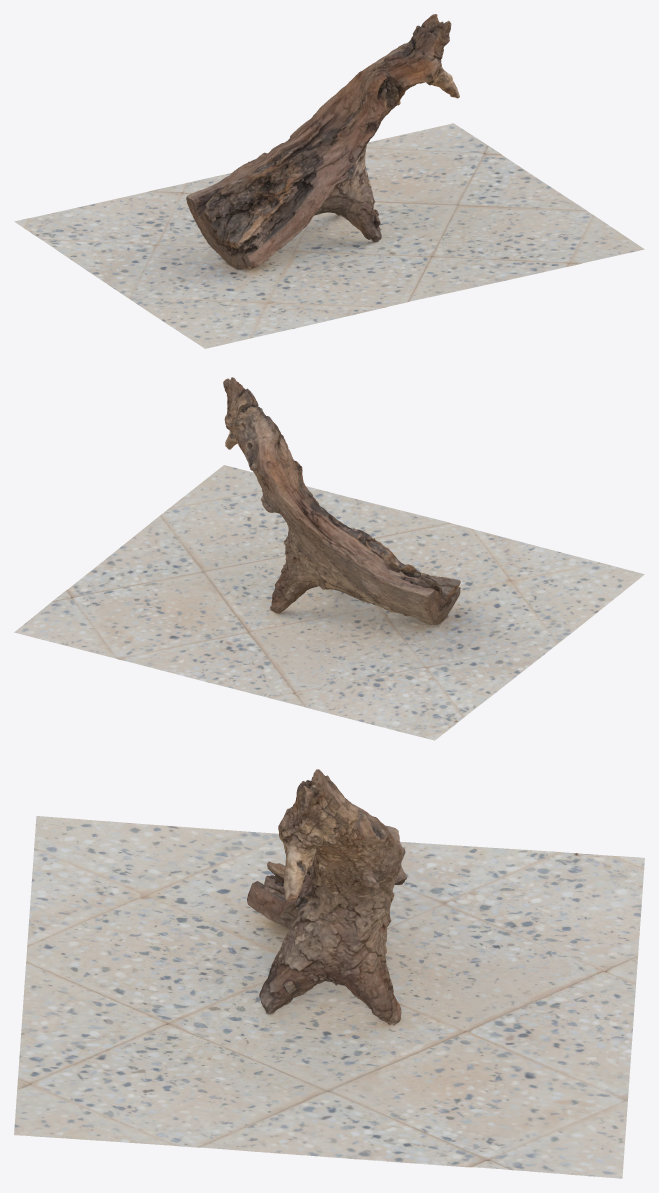
The model's file is sf-raw-3d-photoscan-bird-wood-log-685d97.glb.
3 renders of one model, top to bottom at view 1: azimuth 30°, elevation 25°; view 2: azimuth 150°, elevation 25°; view 3: azimuth 270°, elevation 25°, orthographic. The views are drawn at different scales.
Parts seen in each view (by area): view 1: Object_2; view 2: Object_2; view 3: Object_2.
Boxes of the visible parts, x1,y1,x2,y2 form: Object_2: (14, 14, 644, 348); Object_2: (14, 377, 644, 740); Object_2: (14, 769, 644, 1178).
Bounding box in the file's own units: 8.13 × 3.73 × 6.65.
Materials: 1 (1 with a texture image).
